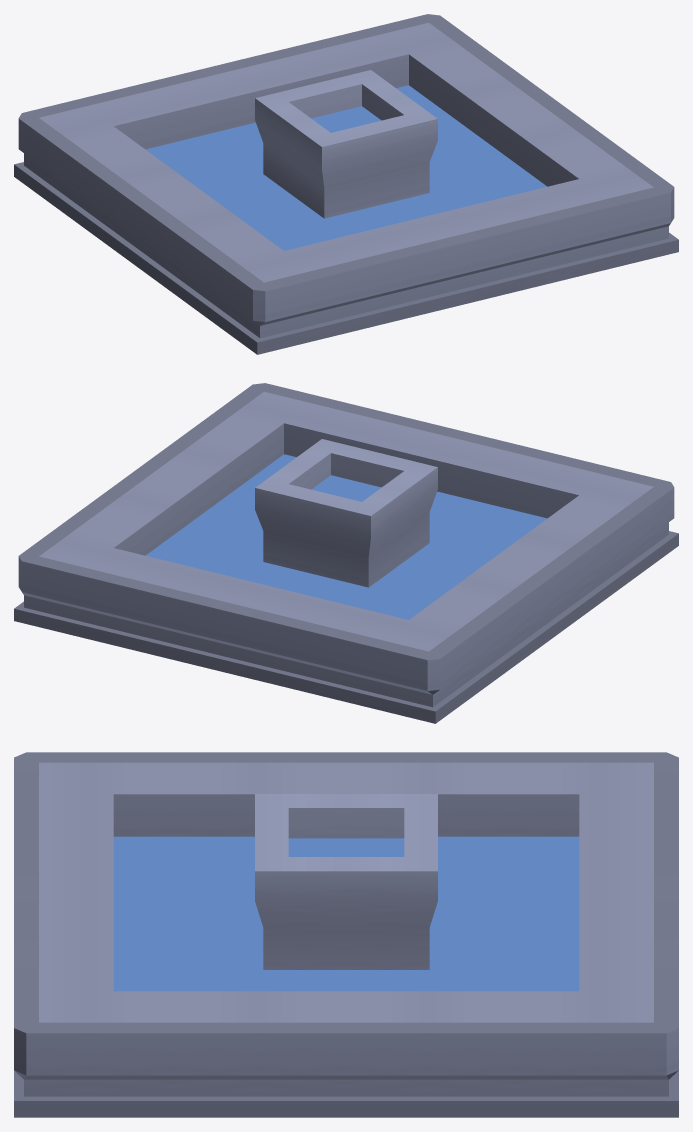
Rendered from fountainSquareDetail.fbx.
3 renders of one model, top to bottom at view 1: azimuth 30°, elevation 25°; view 2: azimuth 150°, elevation 25°; view 3: azimuth 270°, elevation 25°, orthographic. The views are drawn at different scales.
Visible parts, largest first — view 1: fountainSquareDetail; view 2: fountainSquareDetail; view 3: fountainSquareDetail.
Boxes of the visible parts, left/top/right/bottom form: fountainSquareDetail: left=14, top=14, right=678, bottom=354; fountainSquareDetail: left=14, top=383, right=678, bottom=723; fountainSquareDetail: left=14, top=752, right=678, bottom=1117.
Bounding box in the file's own units: 2 × 2 × 0.48.
